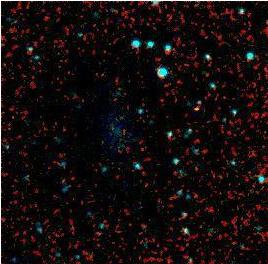star: (174, 87, 204, 117)
